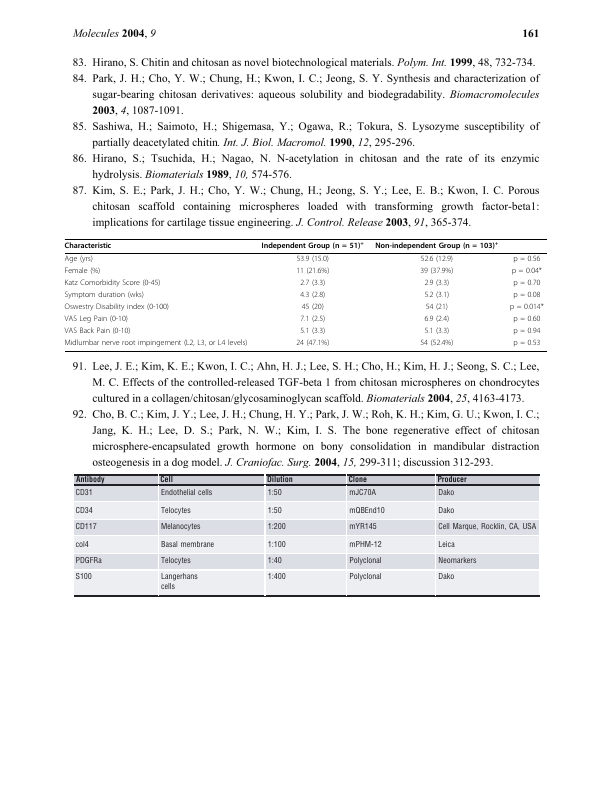borderless: (74, 473, 540, 595), (63, 238, 547, 351)
cell: (64, 339, 248, 348), (374, 240, 499, 251), (261, 240, 365, 251), (64, 303, 170, 313), (437, 522, 537, 532), (64, 279, 161, 289), (64, 291, 145, 301), (159, 572, 198, 592), (64, 327, 131, 336), (64, 315, 129, 324), (159, 540, 215, 549), (159, 488, 213, 497), (64, 242, 112, 251), (159, 522, 201, 532), (437, 556, 477, 566), (64, 267, 101, 277), (509, 303, 545, 313), (295, 255, 330, 265), (295, 267, 330, 277), (419, 267, 454, 277), (348, 556, 382, 566), (348, 572, 382, 582), (420, 255, 454, 265), (348, 506, 385, 515), (159, 556, 191, 566), (511, 267, 543, 277), (295, 339, 330, 348), (419, 339, 454, 348), (74, 475, 105, 485), (436, 475, 467, 485), (348, 540, 382, 549), (64, 255, 94, 265), (348, 522, 377, 532), (512, 255, 541, 265), (512, 279, 541, 289), (512, 291, 541, 301), (159, 506, 191, 515), (265, 475, 293, 485), (74, 556, 102, 566), (299, 279, 326, 289), (423, 279, 450, 289), (299, 291, 326, 301), (423, 291, 450, 301), (512, 315, 541, 324), (512, 327, 541, 336), (512, 339, 541, 348), (348, 488, 376, 497), (299, 315, 326, 324), (423, 315, 450, 324), (299, 327, 326, 336), (423, 327, 450, 336), (301, 303, 325, 313), (425, 303, 449, 313), (74, 522, 97, 532), (347, 475, 367, 485), (266, 522, 286, 532), (266, 572, 286, 582), (266, 540, 286, 549), (74, 572, 92, 582), (437, 572, 455, 582), (74, 488, 93, 497), (74, 506, 93, 515), (437, 488, 455, 497), (437, 506, 455, 515), (437, 540, 455, 549), (266, 556, 282, 566), (266, 488, 282, 497), (266, 506, 282, 515), (159, 475, 173, 485), (74, 540, 89, 549)
